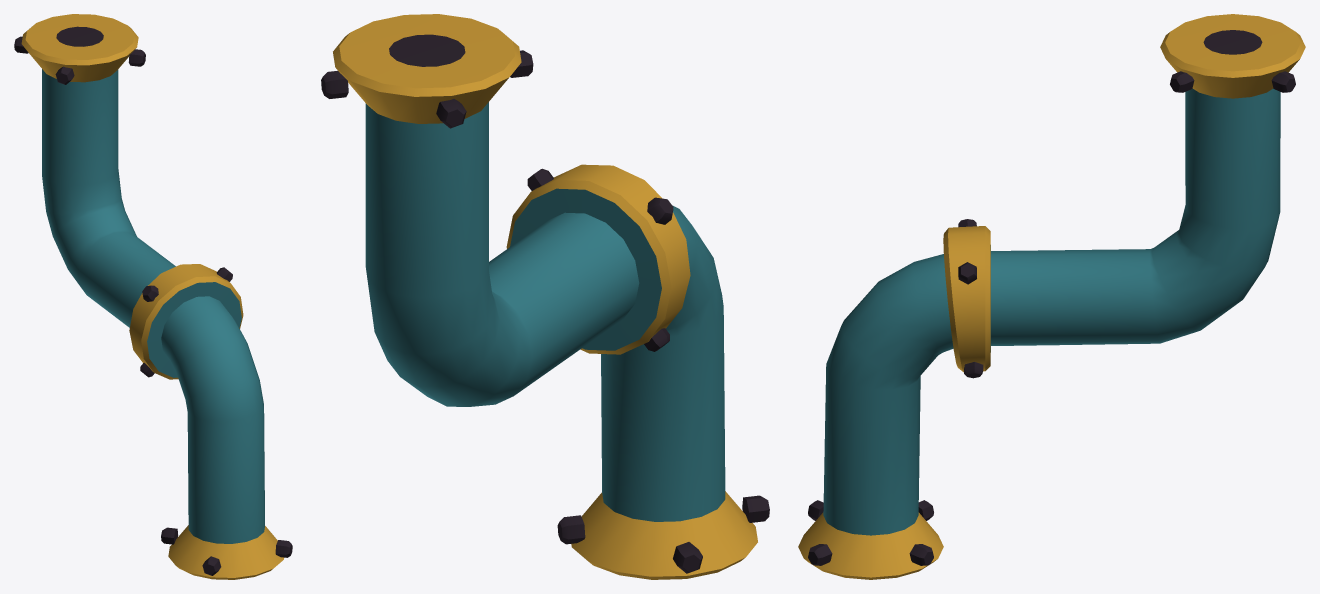
Rendered from PipeRun_13.glb.
3 views of the same model, side by side, from view 1: azimuth 30°, elevation 25°; view 2: azimuth 150°, elevation 25°; view 3: azimuth 270°, elevation 25° (orthographic). The views are drawn at different scales.
Visible parts, largest first — view 1: PipeRun_13; view 2: PipeRun_13; view 3: PipeRun_13.
Part boxes in pixels (x1,y1,x2,y2): PipeRun_13: [14, 14, 292, 579]; PipeRun_13: [321, 14, 769, 579]; PipeRun_13: [798, 14, 1305, 579].
Size of the model in its own units: 1.1 by 4.23 by 3.82.
